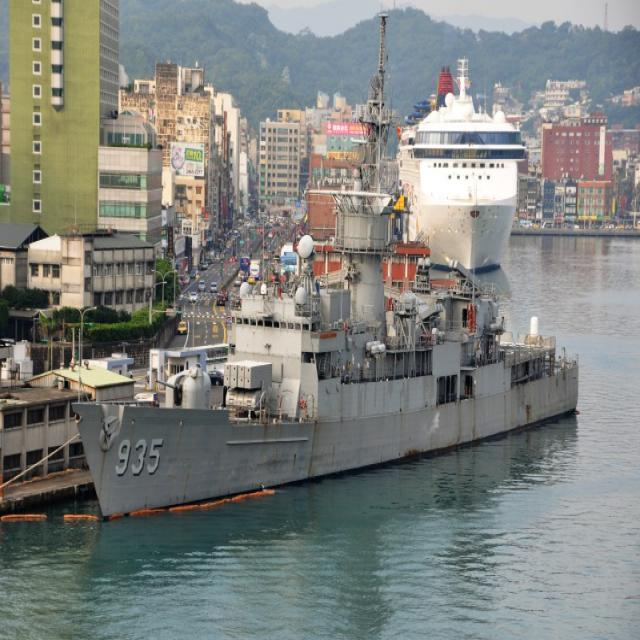Fragata: (69, 12, 586, 530)
